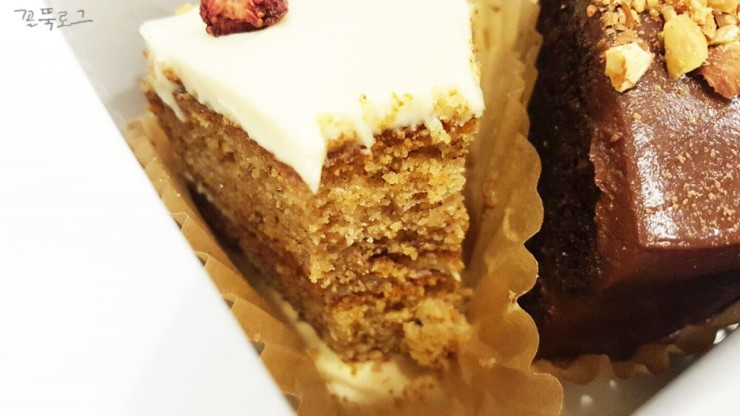slice of bread: (139, 12, 511, 251)
